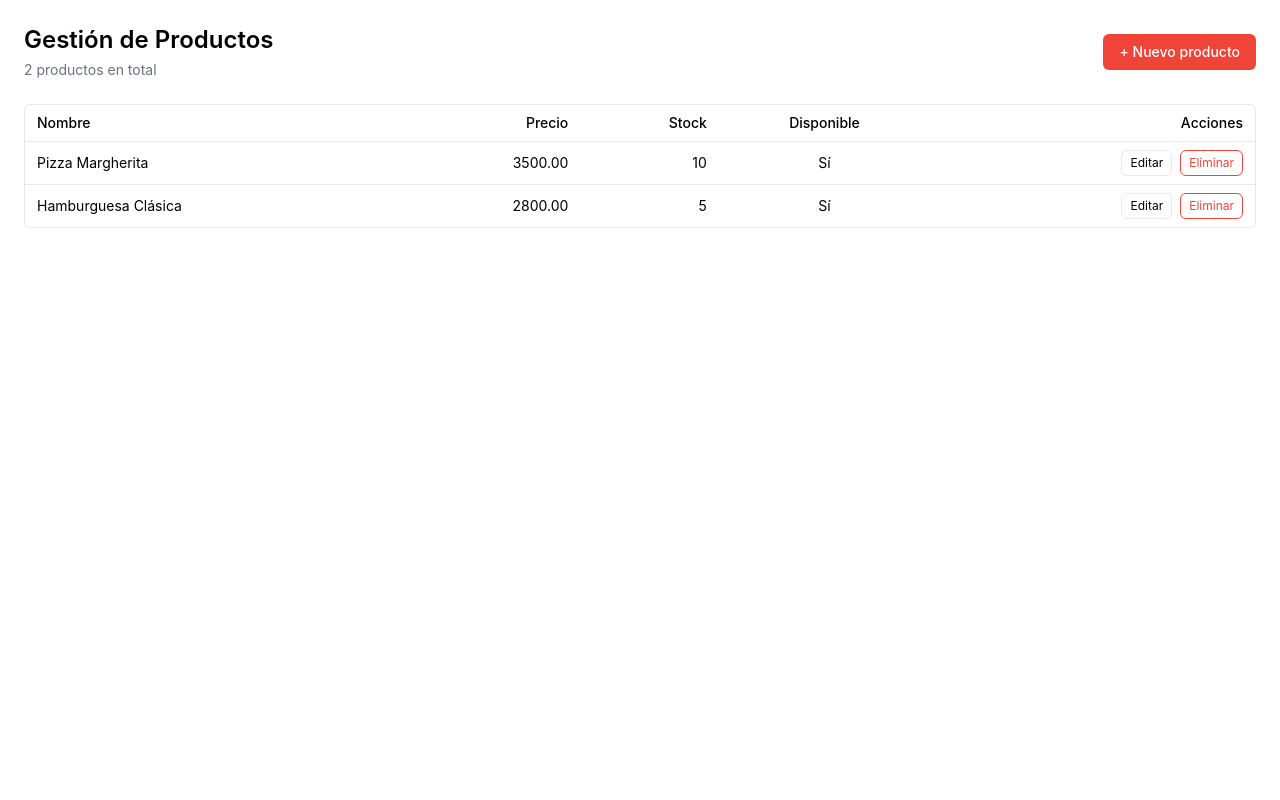
Scenario: StockProductsPage › opens delete confirmation modal when "Eliminar" is clicked
This screenshot has width=1280, height=800.
Click the button "Eliminar" in the row of "Pizza Margherita": (1212, 163) x1=1180 y1=150 x2=1243 y2=176
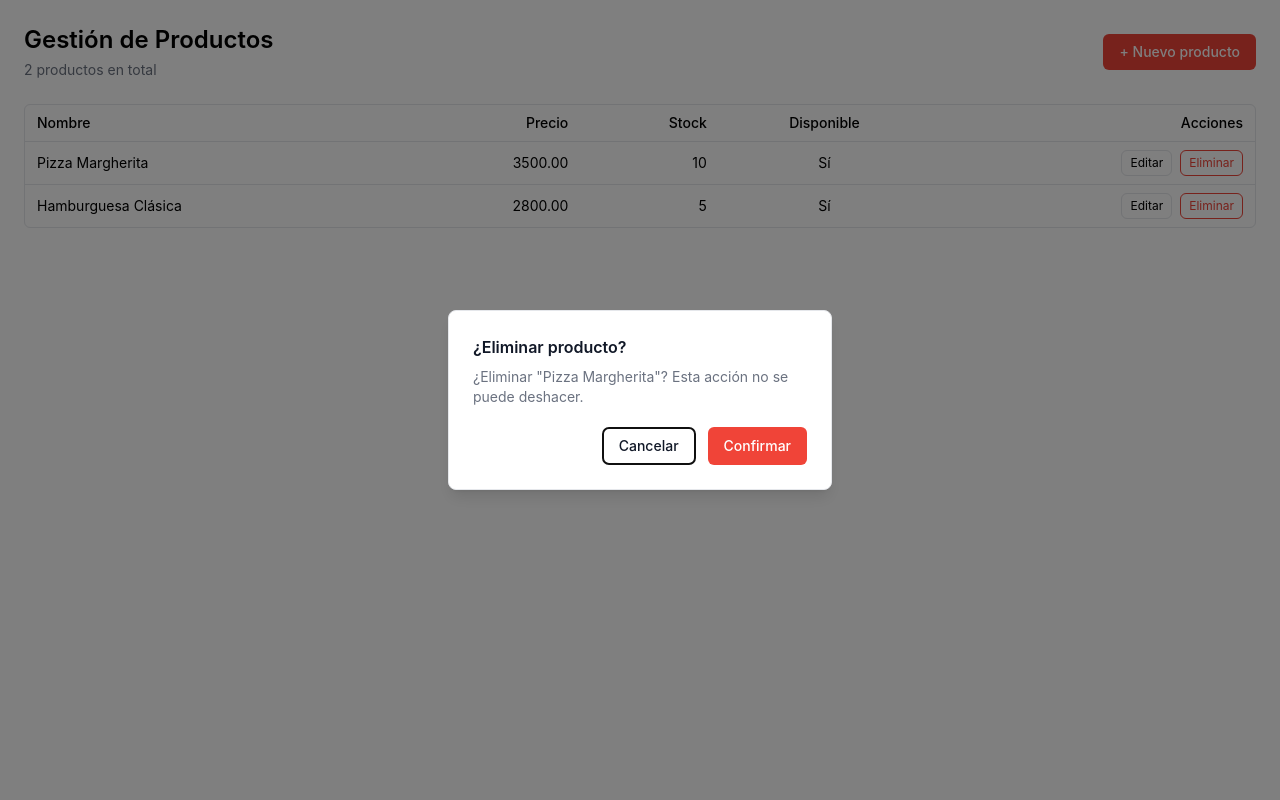
Expected: the dialog is shown
Expected: the heading "¿Eliminar producto?" is shown, x1=473 y1=337 x2=626 y2=357
Expected: the text "Pizza Margherita" is shown, x1=473 y1=368 x2=788 y2=405
